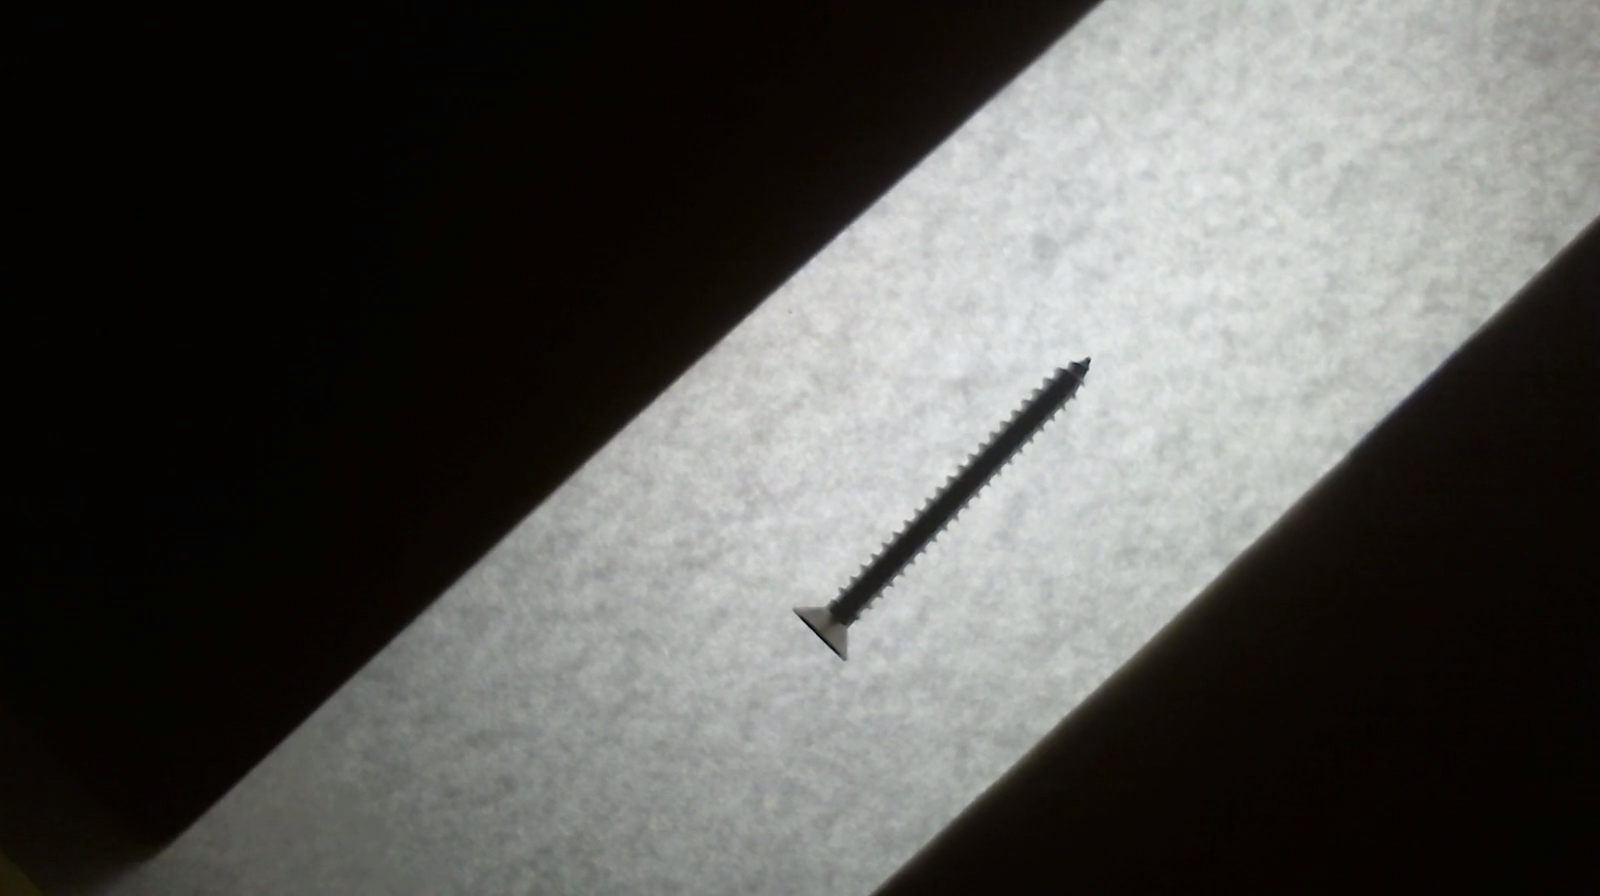S002: (758, 329, 1155, 686)
